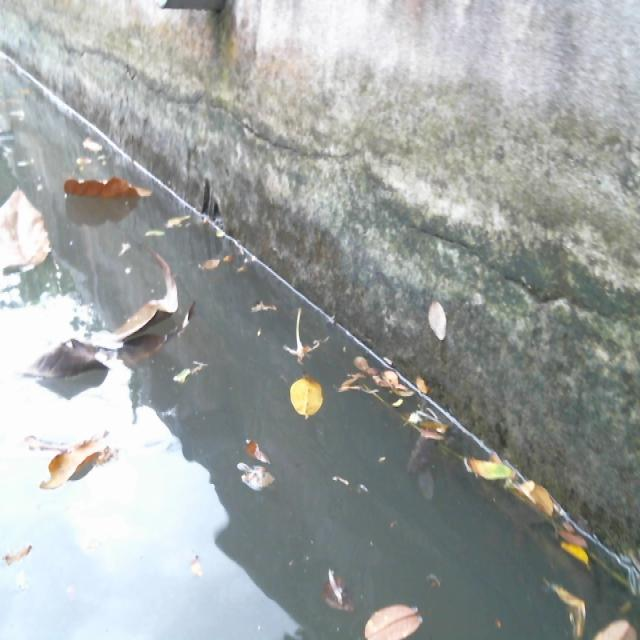Big-leaf: (13, 250, 195, 395), (0, 177, 55, 284), (58, 169, 156, 205)
Small-leaf: (366, 597, 442, 640), (464, 451, 532, 498), (539, 583, 585, 640), (283, 371, 326, 425), (518, 476, 561, 523), (0, 534, 37, 586), (315, 572, 358, 616), (592, 613, 640, 640), (172, 359, 210, 392), (561, 544, 592, 576), (239, 461, 274, 488), (556, 522, 588, 549), (249, 428, 274, 455), (79, 135, 108, 158), (196, 255, 222, 274)
